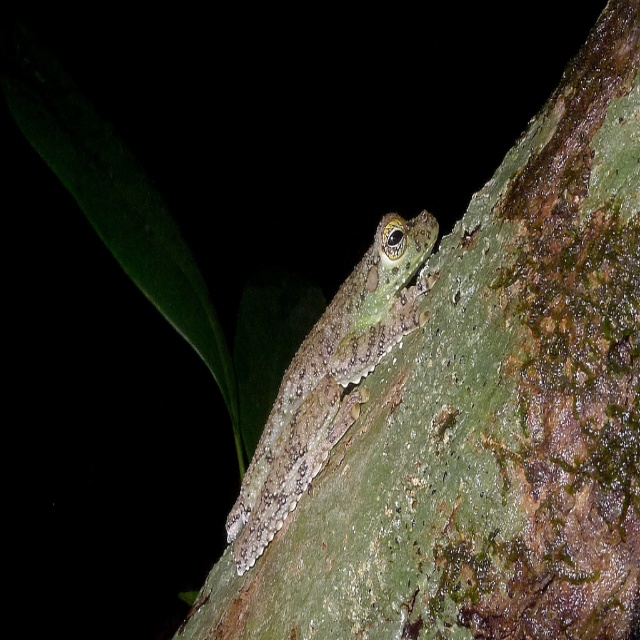Frog: (223, 212, 438, 578)
